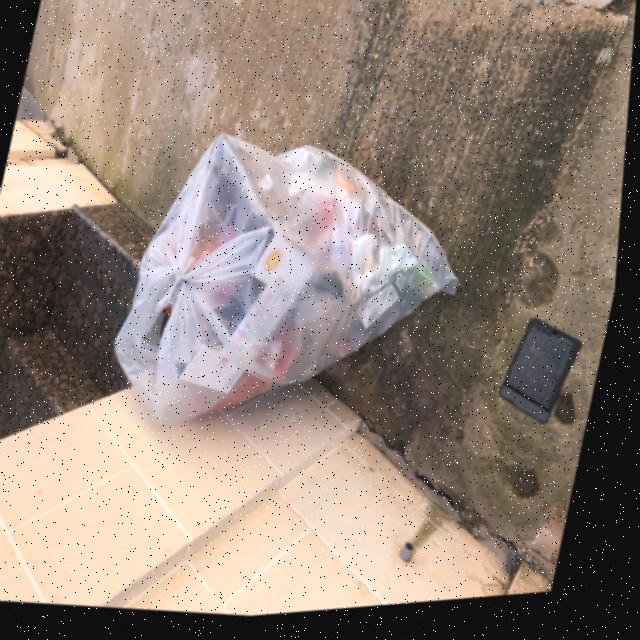Organic Waste -White Bag-: (100, 105, 490, 467)
